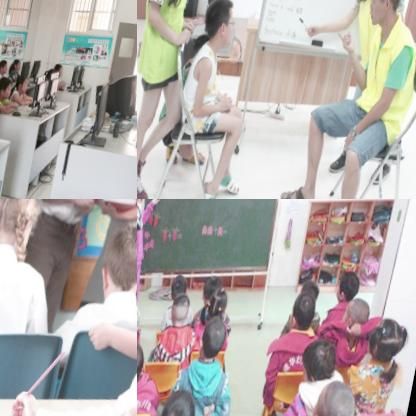head: (96, 223, 137, 307), (364, 315, 408, 377), (0, 199, 43, 261), (305, 377, 366, 416), (298, 335, 338, 393), (199, 0, 241, 53), (336, 298, 374, 350), (286, 292, 318, 344), (194, 314, 228, 362), (364, 0, 409, 36), (152, 384, 201, 416), (164, 292, 194, 334), (332, 273, 362, 313), (294, 277, 322, 316), (203, 287, 230, 326), (198, 274, 223, 307), (166, 274, 189, 305), (137, 335, 150, 387), (0, 77, 14, 106), (42, 69, 58, 90), (16, 77, 30, 99), (8, 60, 22, 76), (52, 66, 63, 80), (0, 61, 8, 80)
